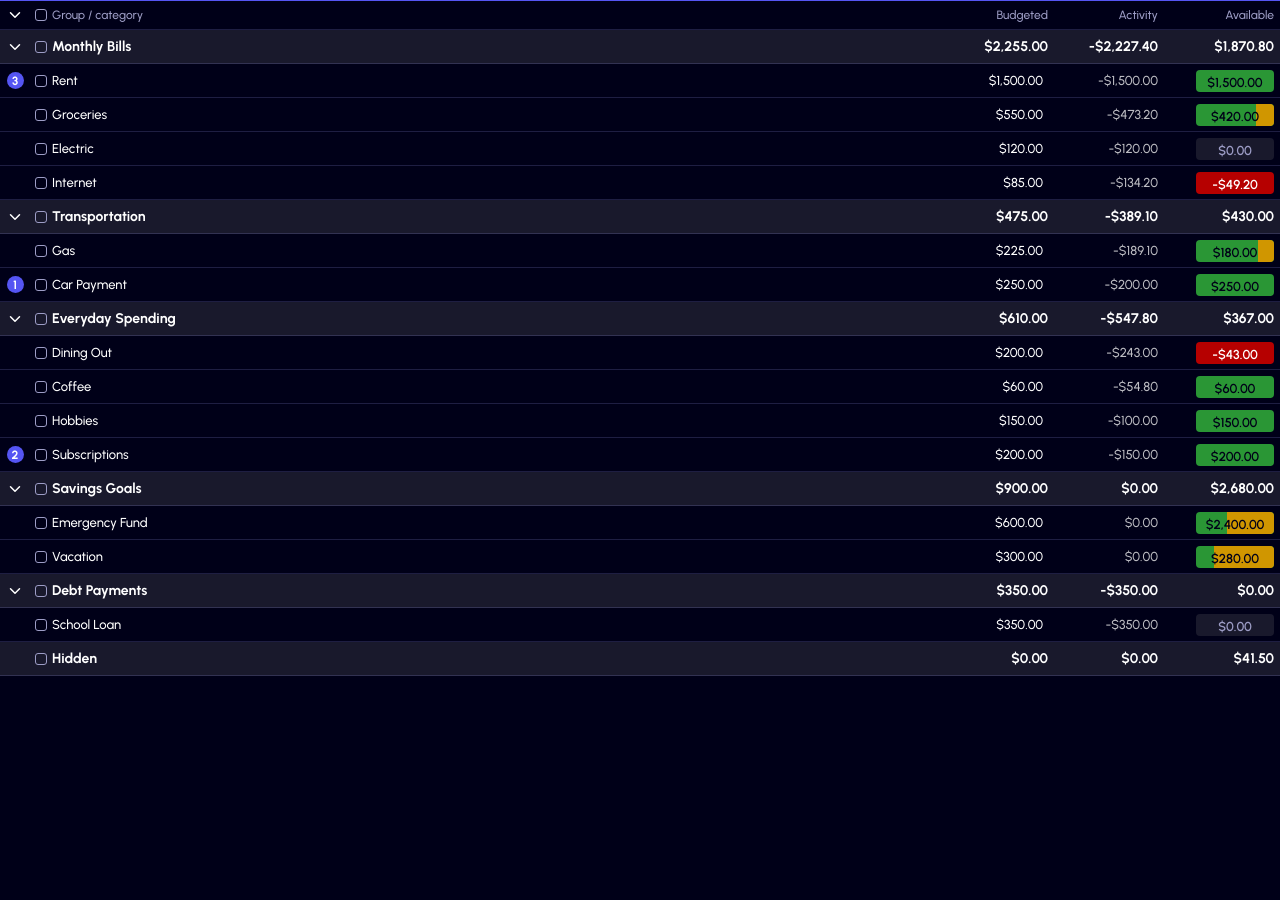
Test: BudgetTable › editing a Budgeted amount shows the new value
This screenshot has width=1280, height=900.
Click the button named "Budgeted for Rent": (993, 80) [938, 70, 1048, 92]
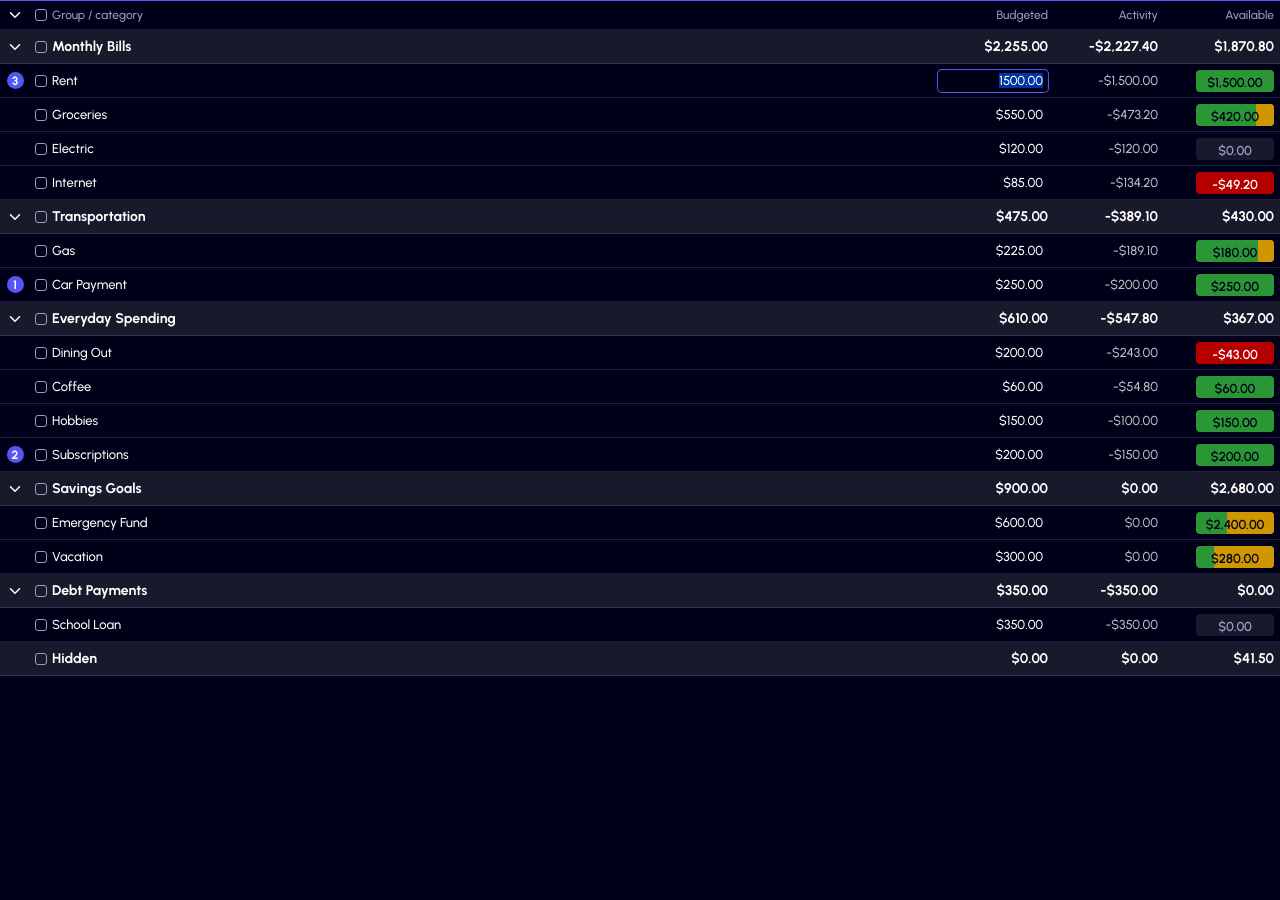
Type keys "2000{Enter}"
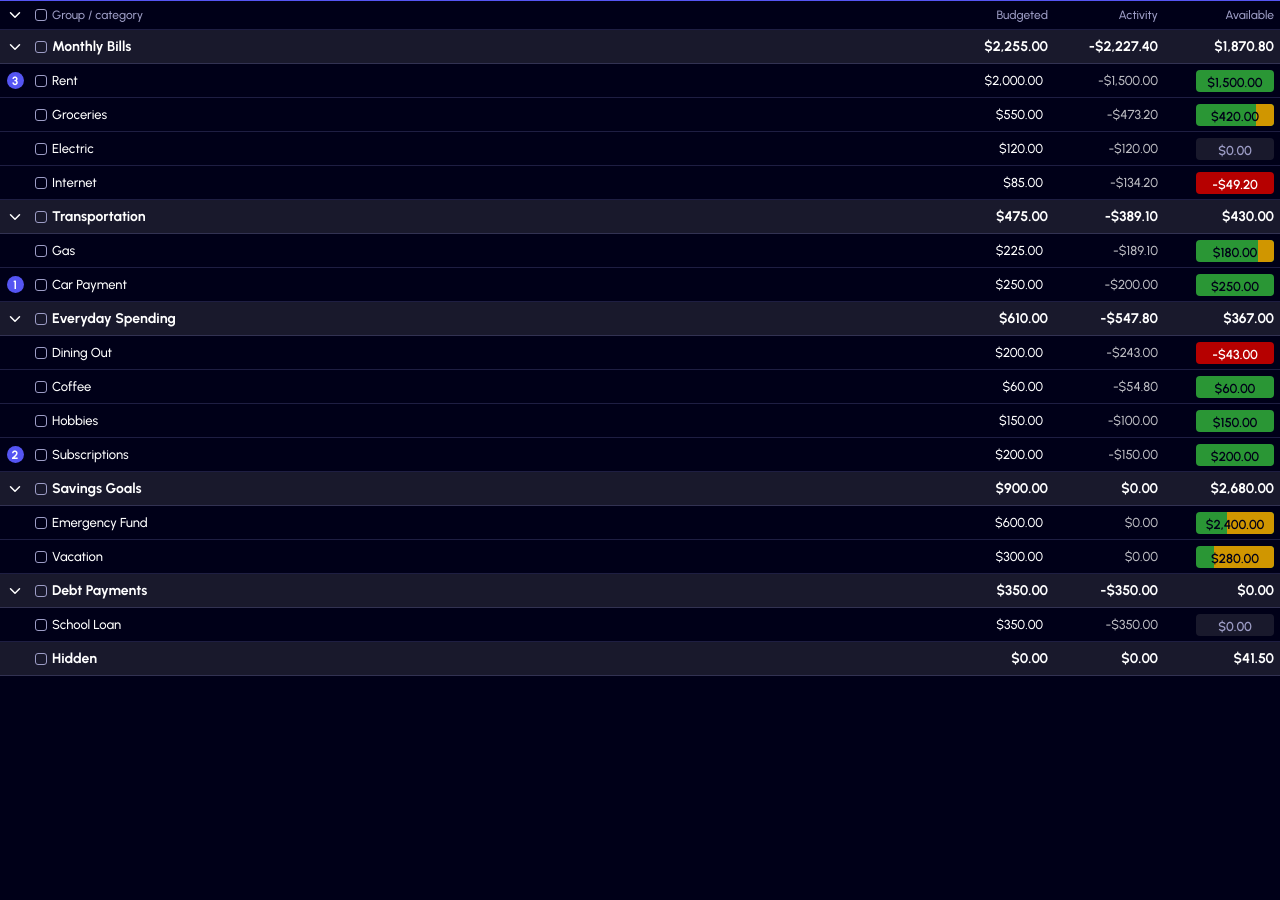
Result: the button named "Budgeted for Rent" reads "$2,000.00" at [938, 70, 1048, 92]
